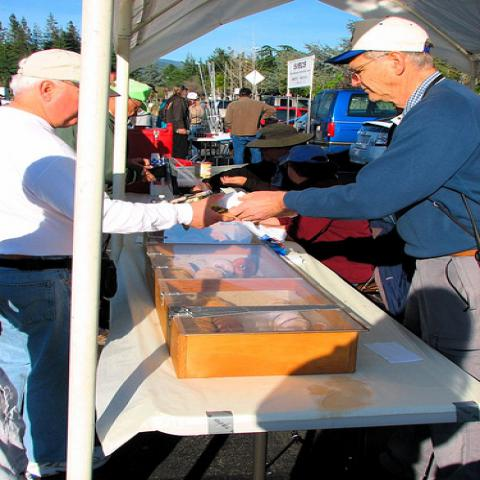car: (309, 90, 400, 160), (350, 112, 400, 165), (262, 94, 307, 108), (273, 107, 308, 121), (293, 113, 307, 133)
